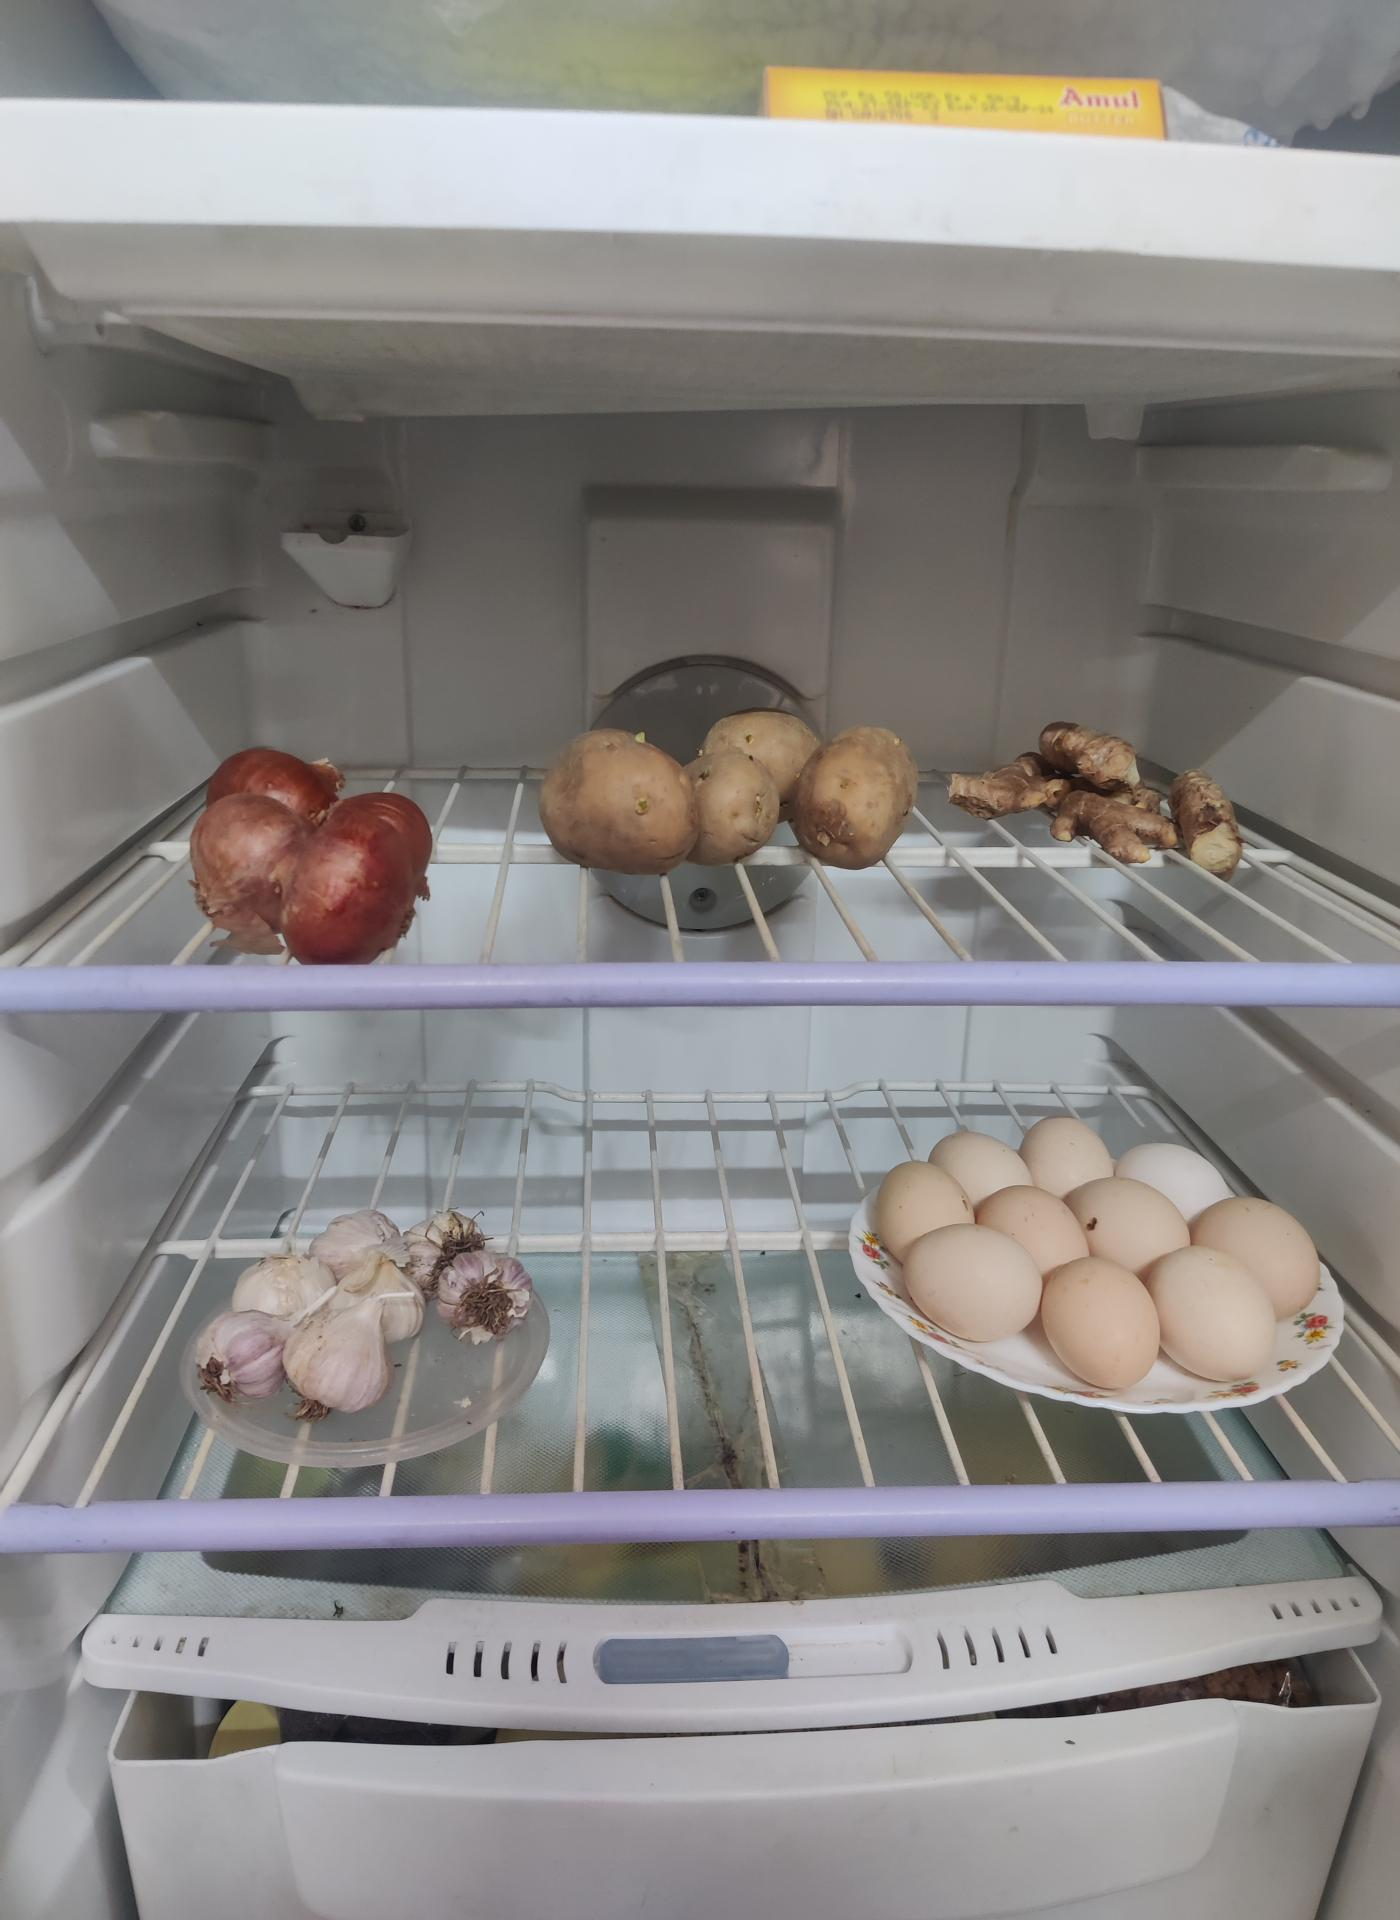egg: (862, 1117, 1327, 1395)
garlic: (200, 1204, 428, 1409)
ginger: (951, 719, 1245, 865)
onion: (194, 744, 437, 957)
potato: (540, 713, 921, 875)
